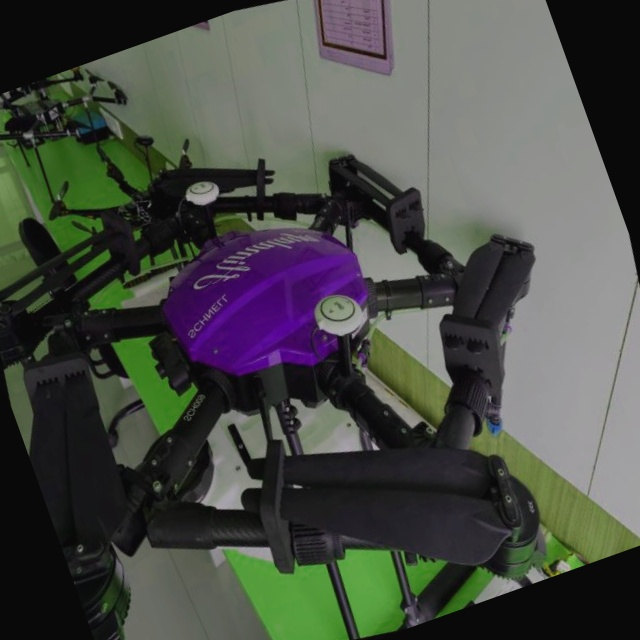agriculturedrone: (0, 33, 640, 640)
